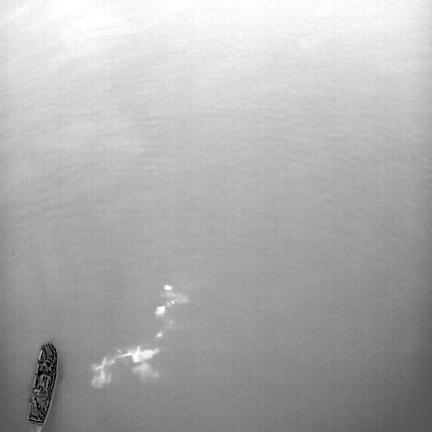flukeprints: (92, 357, 115, 387), (117, 346, 158, 362), (164, 285, 187, 307), (132, 362, 158, 378), (156, 305, 165, 316), (157, 332, 161, 338)
